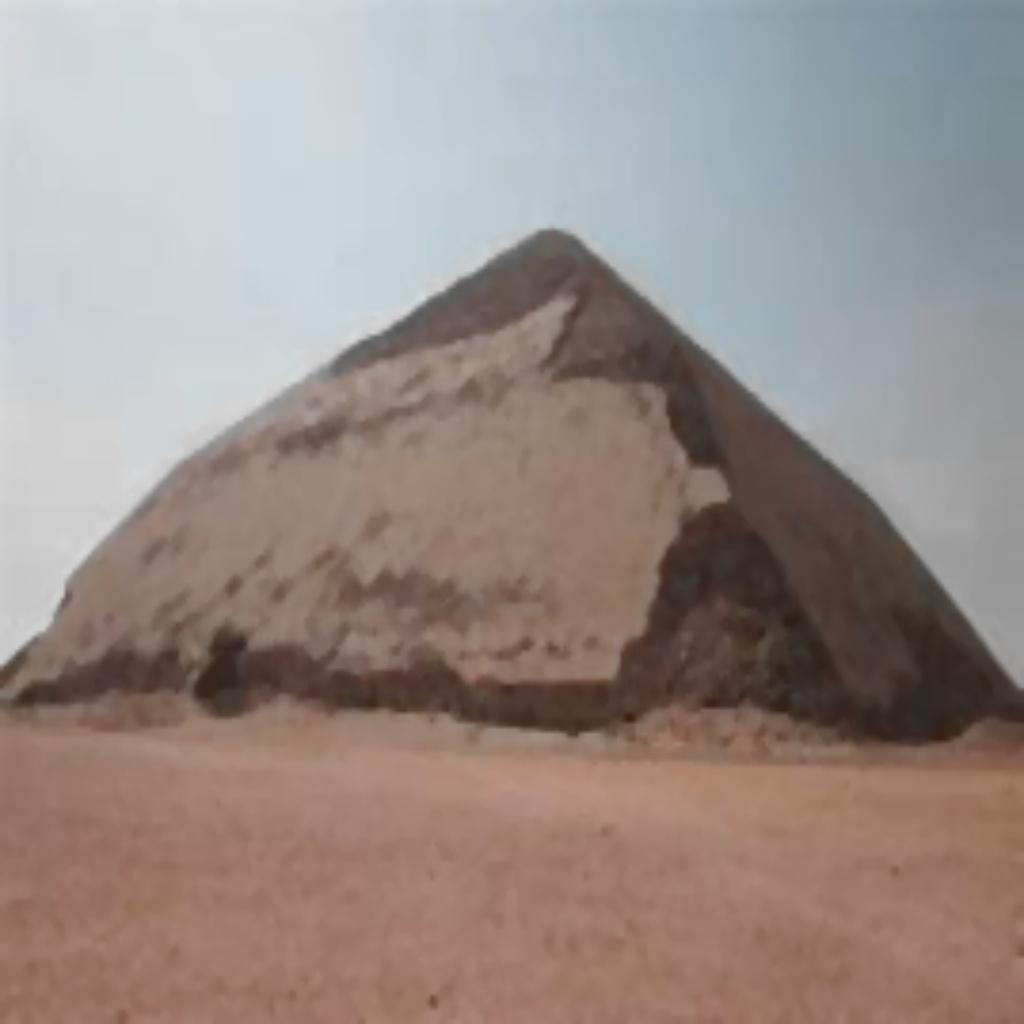Bent Pyramid of King Sneferu: (0, 216, 1020, 746)
